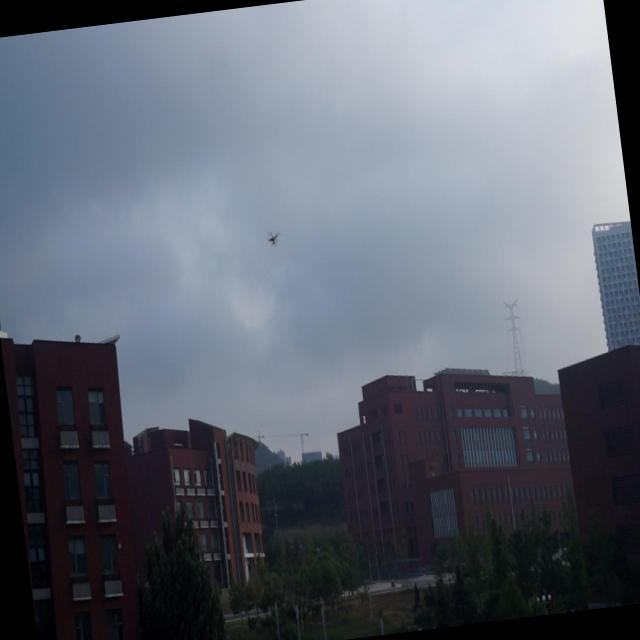drone: (265, 227, 282, 250)
